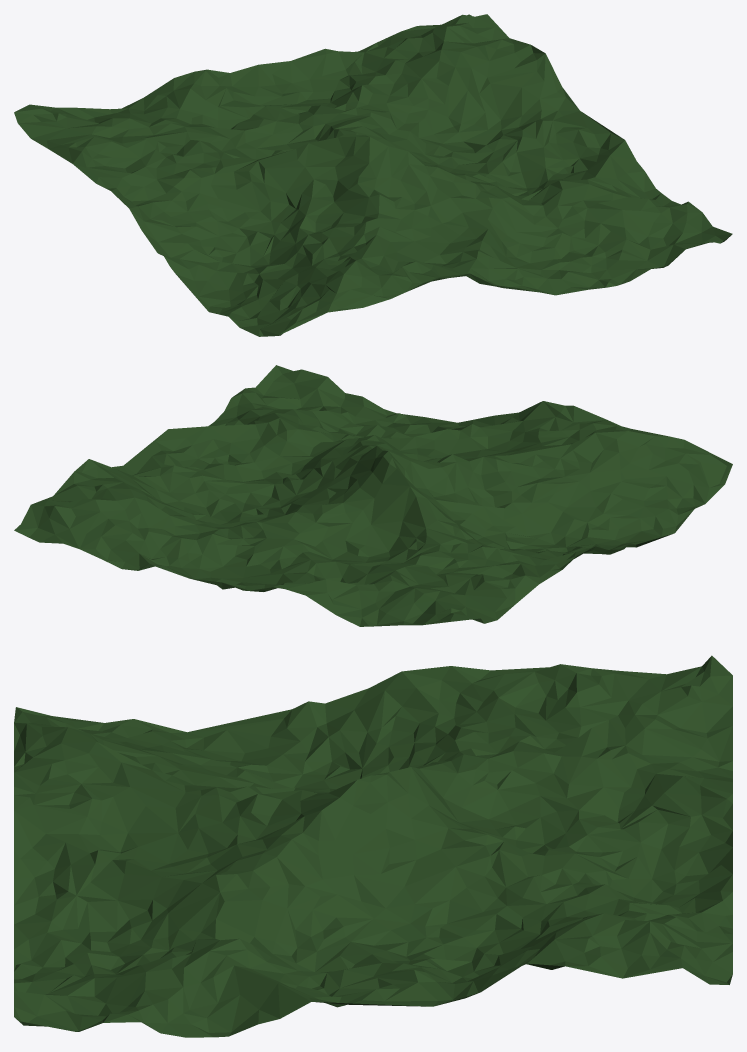
File: SM_landscape_13.fbx
The picture shows the model from 3 angles, top to bottom: view 1: azimuth 30°, elevation 25°; view 2: azimuth 150°, elevation 25°; view 3: azimuth 270°, elevation 25°; orthographic projection. The views are drawn at different scales.
Parts seen in each view (by area): view 1: landscape_13; view 2: landscape_13; view 3: landscape_13.
Boxes of the visible parts, x1,y1,x2,y2 form: landscape_13: (14,14,732,336); landscape_13: (14,365,732,626); landscape_13: (14,655,732,1037).
Size of the model in its own units: 2224 by 398 by 2224.
